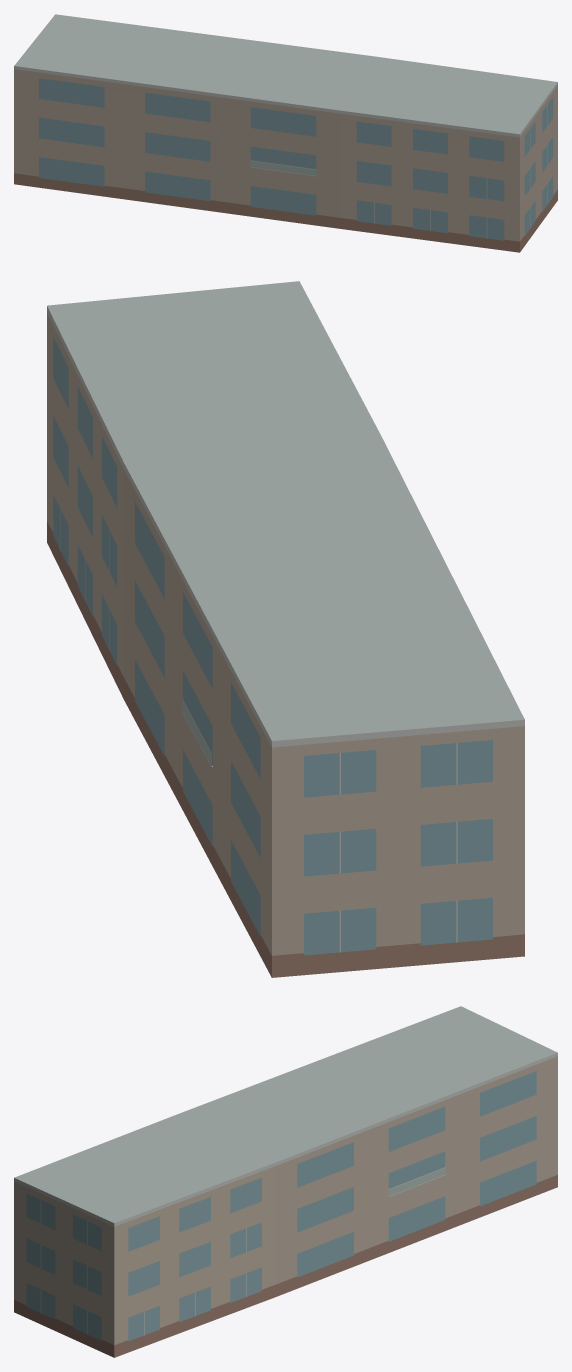
File: survey-upis-32934482.glb
The picture shows the model from 3 angles, top to bottom: view 1: azimuth 30°, elevation 25°; view 2: azimuth 150°, elevation 25°; view 3: azimuth 270°, elevation 25°; orthographic projection. The views are drawn at different scales.
Visible parts, largest first — view 1: survey-upis-32934482.tmp; view 2: survey-upis-32934482.tmp; view 3: survey-upis-32934482.tmp.
Part boxes in pixels (<box>): survey-upis-32934482.tmp: <box>14,14,557,252</box>; survey-upis-32934482.tmp: <box>47,281,524,977</box>; survey-upis-32934482.tmp: <box>14,1006,557,1357</box>.
Bounding box in the file's own units: 31.68 × 9.15 × 33.53.
